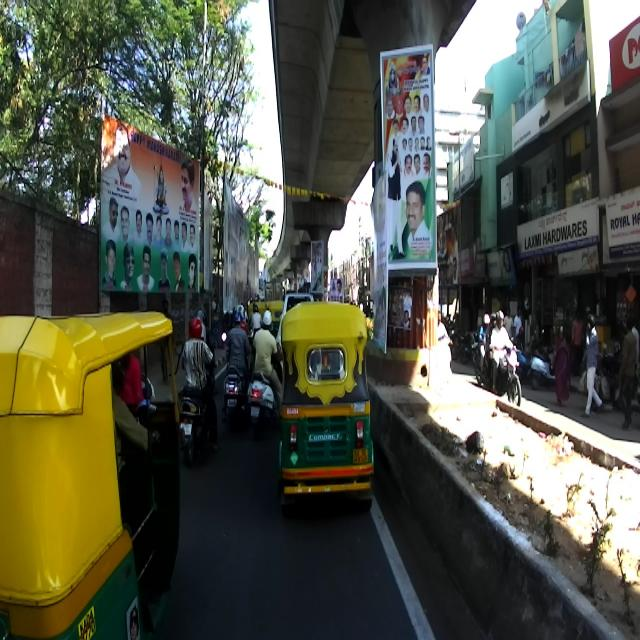autorickshaw: (0, 311, 180, 639), (277, 300, 373, 510)
motorcycle_Honda: (485, 341, 522, 408)
scooter: (176, 353, 218, 468), (221, 329, 257, 435), (247, 339, 283, 442)
